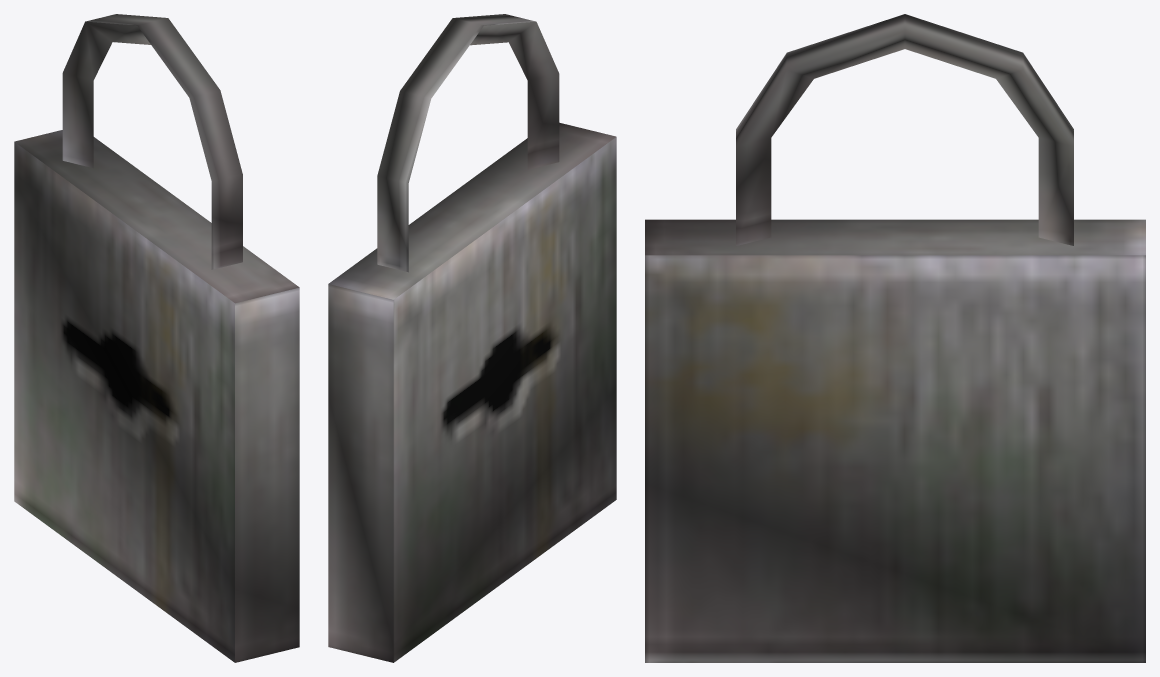
The model's file is lock.obj.
The picture shows the model from 3 angles, left to right: view 1: azimuth 30°, elevation 25°; view 2: azimuth 150°, elevation 25°; view 3: azimuth 270°, elevation 25°; orthographic projection. The views are drawn at different scales.
Visible parts, largest first — view 1: lock_lock_mat; view 2: lock_lock_mat; view 3: lock_lock_mat.
Boxes of the visible parts, x1,y1,x2,y2 form: lock_lock_mat: (14, 14, 299, 662); lock_lock_mat: (328, 14, 616, 662); lock_lock_mat: (645, 14, 1145, 662).
Size of the model in its own units: 8.57 by 69.49 by 50.65.
